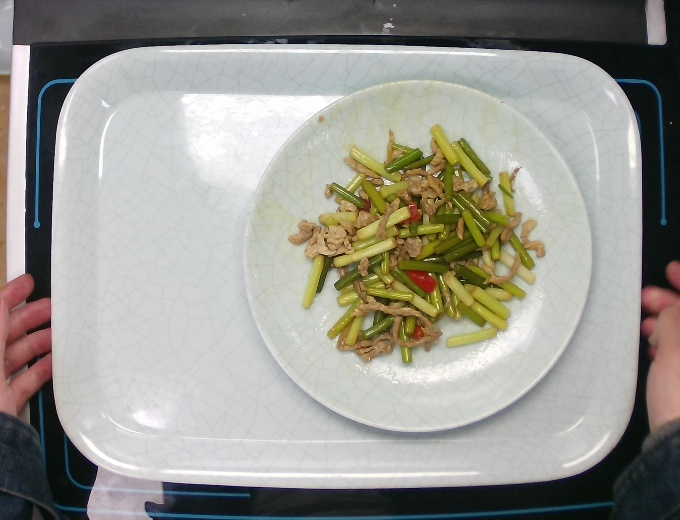JYsf-Da_Yuan_Pan: (242, 76, 602, 437)
